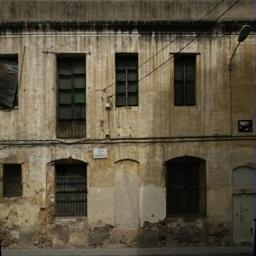building: (0, 13, 234, 247)
